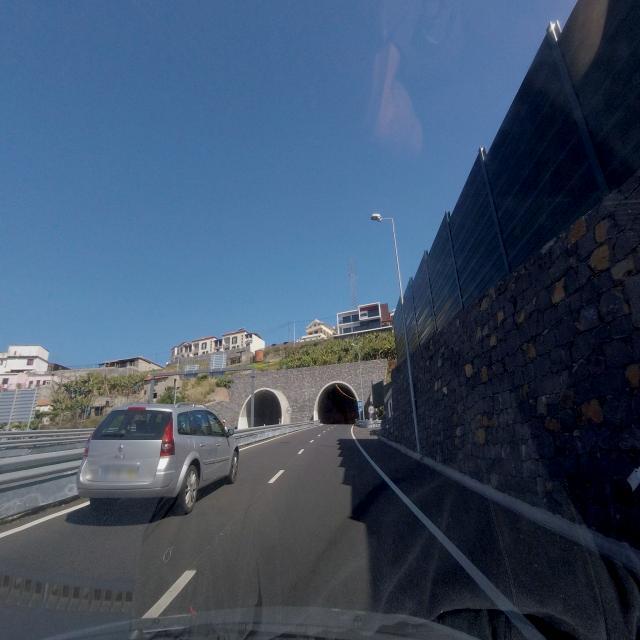car: (77, 401, 240, 515)
